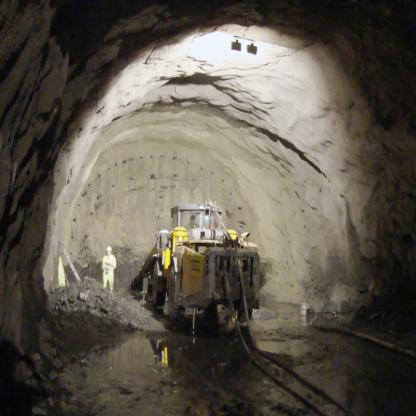bull_dozer/loader/grader: (124, 191, 276, 341)
person: (102, 243, 120, 292)
